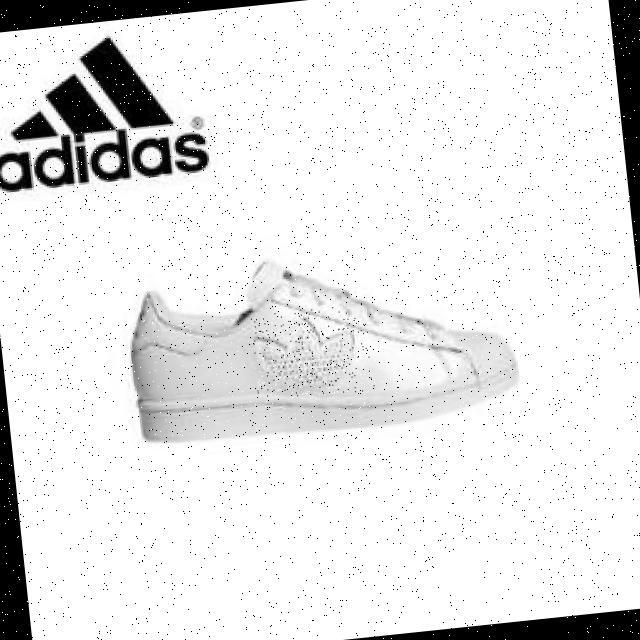Adidas: (250, 302, 376, 402)
